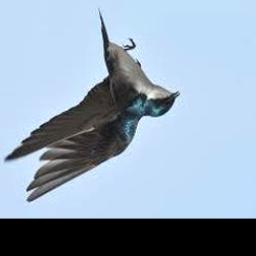Swallow: (4, 9, 179, 204)
